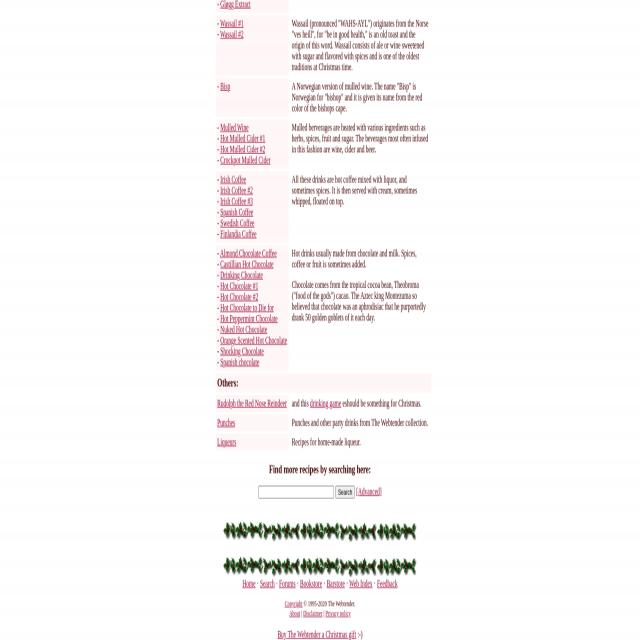button: (335, 486, 355, 498)
field: (258, 486, 334, 498)
